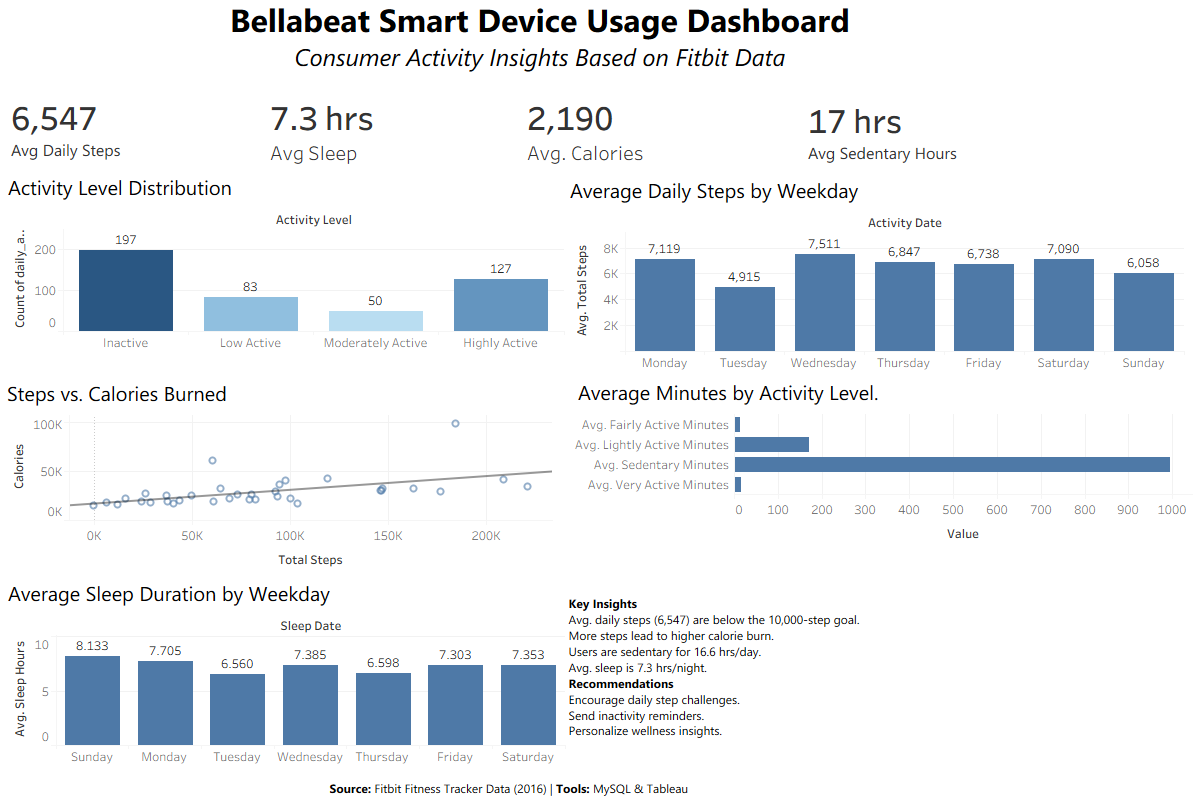

What the dashboard file says about the page in this screenshot:
{"tool":"tableau","page":{"name":"Dashboard 1","canvas":[1200,800],"ordinal":0},"visuals":[{"type":"worksheet","title":"Avg Steps","mark":"Automatic","box":[7,81,151,108]},{"type":"worksheet","title":"Avg Sleep","mark":"Automatic","box":[266,81,206,88]},{"type":"worksheet","title":"Avg Calories","mark":"Automatic","box":[523,81,245,95]},{"type":"worksheet","title":"Avg Sedentary","mark":"Automatic","box":[804,84,196,85]},{"type":"worksheet","title":"Activity Level Distribution","mark":"Bar","rows":["daily_activity_88D7275A14AC49C08EA11511A1A3A1AF"],"cols":["Calculation_0781501437501441"],"box":[4,167,560,204]},{"type":"worksheet","title":"Average Steps by Weekday","mark":"Bar","rows":["TotalSteps"],"cols":["ActivityDate"],"box":[566,170,618,200]},{"type":"worksheet","title":"Daily Activity Breakdown","mark":"Automatic","box":[574,372,618,212]},{"type":"worksheet","title":"Steps and Calories Burned","mark":"Automatic","rows":["Calories"],"cols":["TotalSteps"],"box":[3,373,549,202]},{"type":"text","box":[566,561,633,212]},{"type":"worksheet","title":"Average Sleep Duration","mark":"Bar","rows":["Calculation_0781501440720898"],"cols":["sleep_date"],"box":[4,573,561,193]},{"type":"text","box":[327,772,362,32]}]}

Visuals, with their boxes in screenshot pixels (x1, y1, x2, y2), scaled from the page's 1200x800 canvas onto the 1200x800 screenshot:
"Avg Steps" worksheet: l=7, t=81, r=158, b=189
"Avg Sleep" worksheet: l=266, t=81, r=472, b=169
"Avg Calories" worksheet: l=523, t=81, r=768, b=176
"Avg Sedentary" worksheet: l=804, t=84, r=1000, b=169
"Activity Level Distribution" worksheet (Bar marks): l=4, t=167, r=564, b=371
"Average Steps by Weekday" worksheet (Bar marks): l=566, t=170, r=1184, b=370
"Daily Activity Breakdown" worksheet: l=574, t=372, r=1192, b=584
"Steps and Calories Burned" worksheet: l=3, t=373, r=552, b=575
text: l=566, t=561, r=1199, b=773
"Average Sleep Duration" worksheet (Bar marks): l=4, t=573, r=565, b=766
text: l=327, t=772, r=689, b=799
